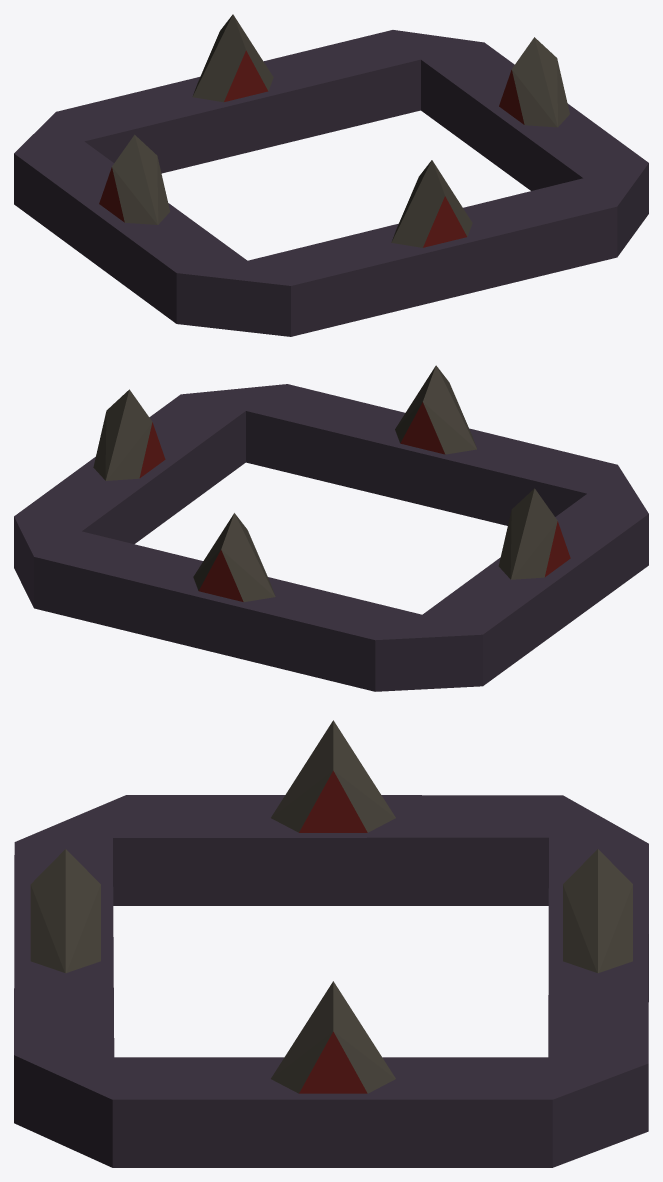
File: EVT_DEMONTOWER_LIFT_WALL.OBJ
3 views of the same model, one above another, from view 1: azimuth 30°, elevation 25°; view 2: azimuth 150°, elevation 25°; view 3: azimuth 270°, elevation 25° (orthographic). The views are drawn at different scales.
Parts seen in each view (by area): view 1: EVT_DEMONTOWER_LIFT_WALL; view 2: EVT_DEMONTOWER_LIFT_WALL; view 3: EVT_DEMONTOWER_LIFT_WALL.
Part boxes in pixels (x1,y1,x2,y2): EVT_DEMONTOWER_LIFT_WALL: (14,14,648,336); EVT_DEMONTOWER_LIFT_WALL: (14,365,648,691); EVT_DEMONTOWER_LIFT_WALL: (14,720,648,1167).
Bounding box in the file's own units: 2.88 × 0.7314 × 2.53.
